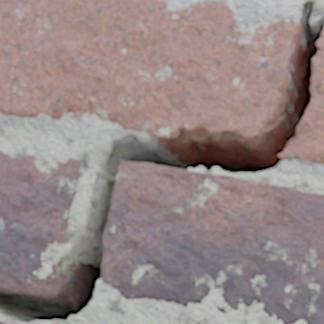brick: (102, 161, 323, 323), (0, 149, 81, 291), (50, 264, 56, 274), (0, 320, 13, 323)
broken_brick: (0, 0, 296, 137), (278, 31, 323, 163)
crack: (0, 0, 323, 323)
